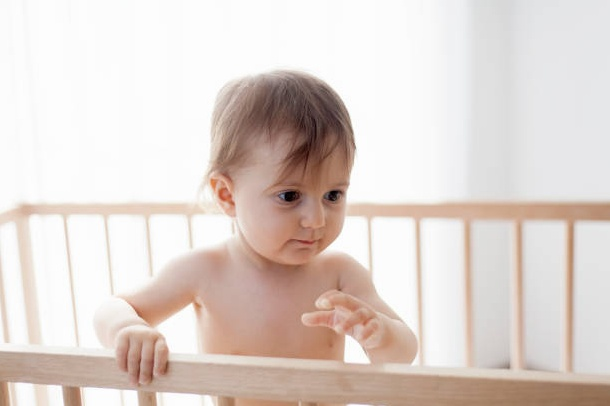baby: (94, 70, 416, 384)
crib: (0, 202, 609, 405)
